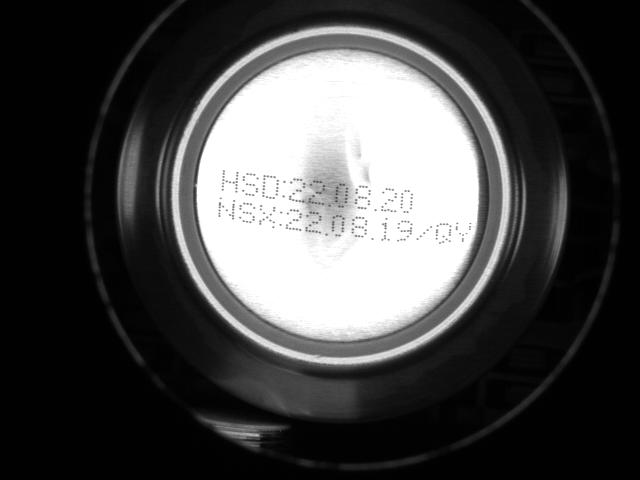.: (326, 195, 333, 209), (322, 223, 329, 237), (372, 199, 379, 213), (368, 227, 375, 241)
/: (414, 221, 431, 245)
0: (334, 181, 350, 211), (330, 210, 346, 240), (398, 184, 414, 214)
1: (380, 216, 391, 244)
2: (288, 175, 305, 204), (285, 205, 302, 234), (307, 177, 324, 206), (304, 207, 321, 236), (380, 185, 397, 214)
8: (354, 184, 371, 212), (350, 212, 367, 240)
9: (395, 218, 413, 244)
:: (280, 177, 288, 199), (276, 206, 284, 228)
D: (261, 172, 280, 202)
H: (220, 166, 239, 195)
N: (217, 195, 235, 223)
Q: (435, 220, 453, 247)
S: (241, 169, 259, 199), (237, 197, 255, 227)
X: (257, 202, 277, 231)
Y: (454, 218, 472, 247)
